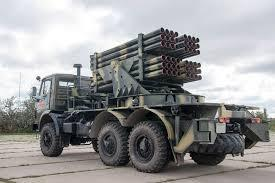rszo: (30, 25, 270, 170)
